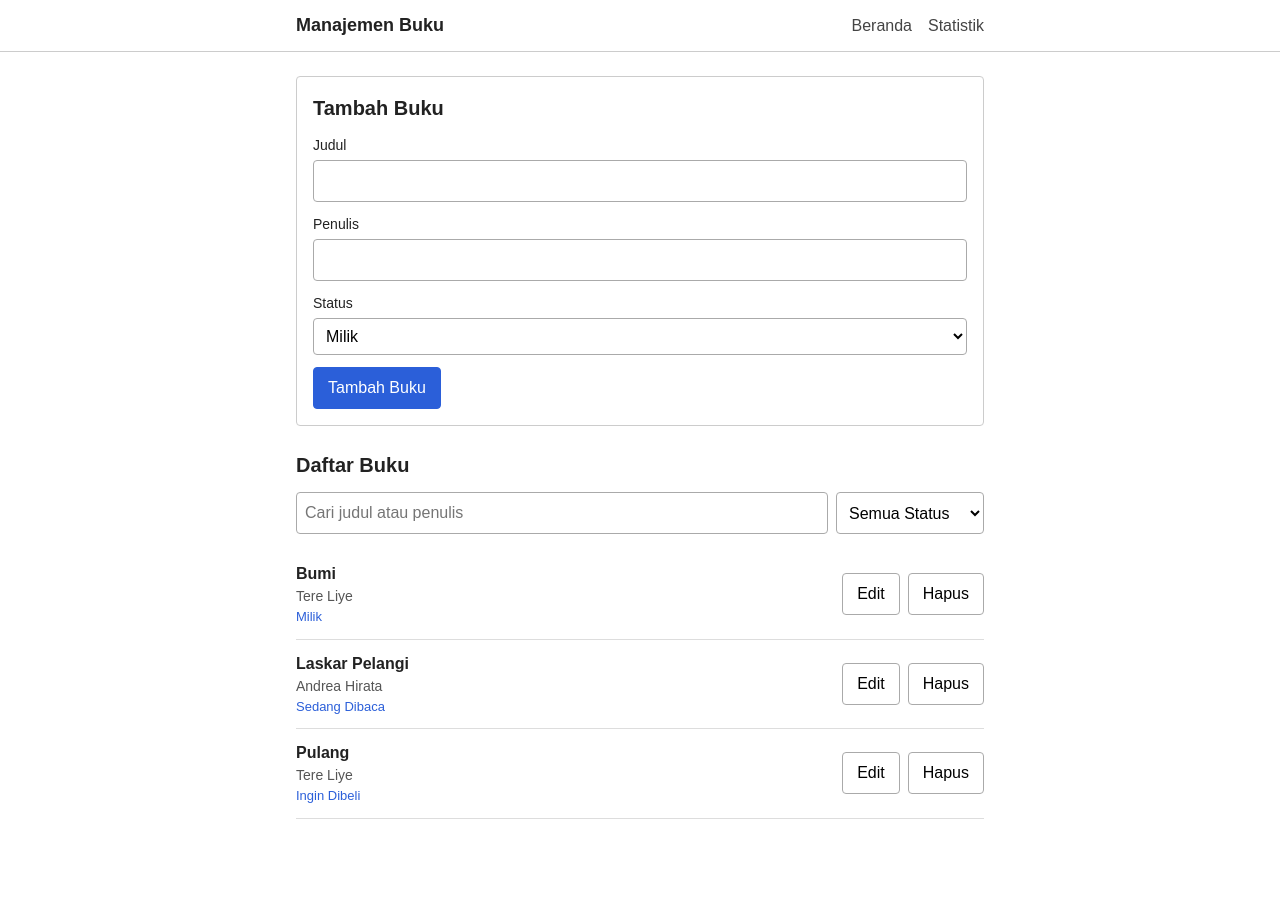
Aplikasi Manajemen Buku › filter berdasarkan status
The image size is (1280, 900).
Step 1. Select "Sedang Dibaca" in the dropdown named "Filter status" → (910,513), box [836,492,984,534]
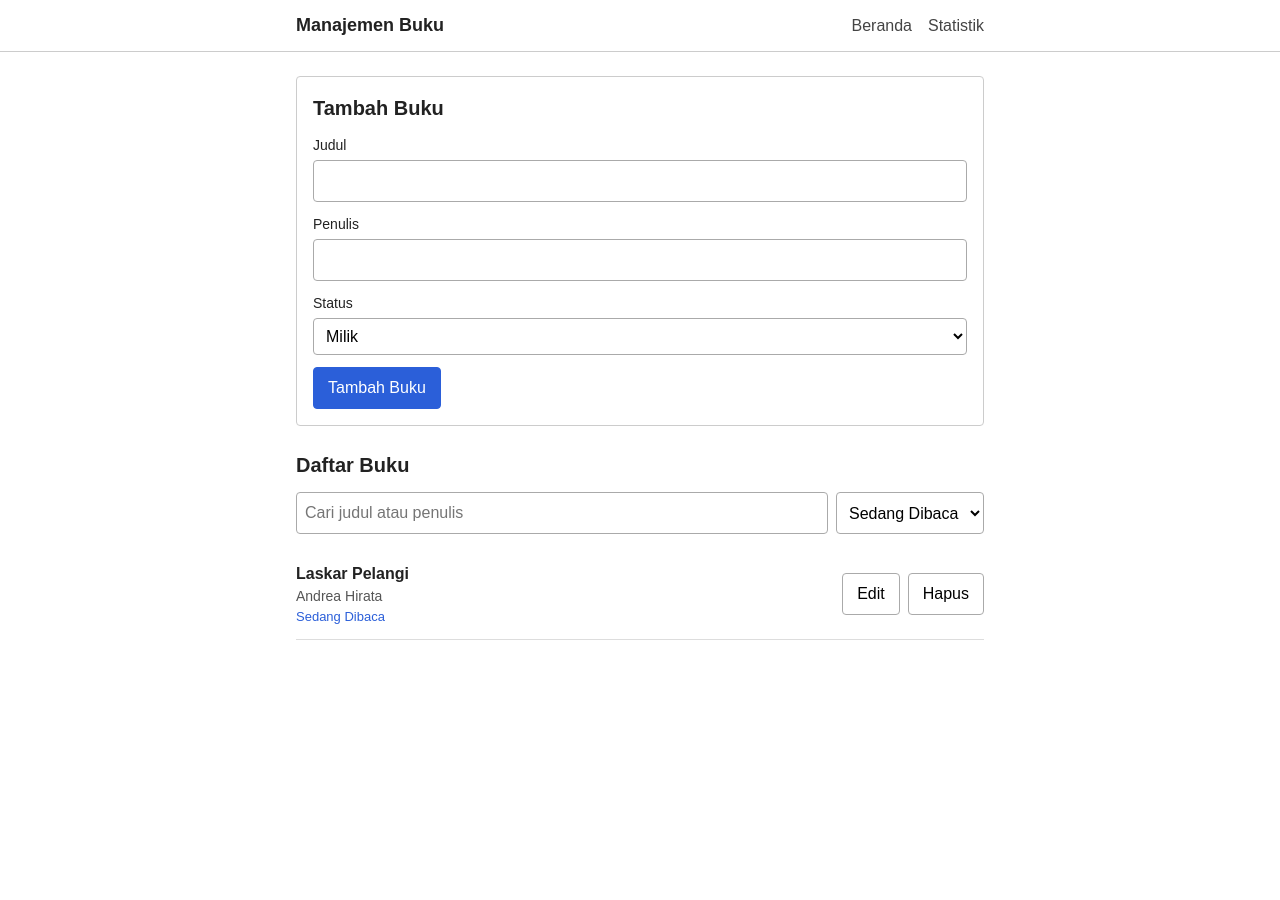
Expected: the text "Laskar Pelangi" is shown, [296,562,409,586]
Now the text "Bumi" is gone
Now the text "Pulang" is gone
